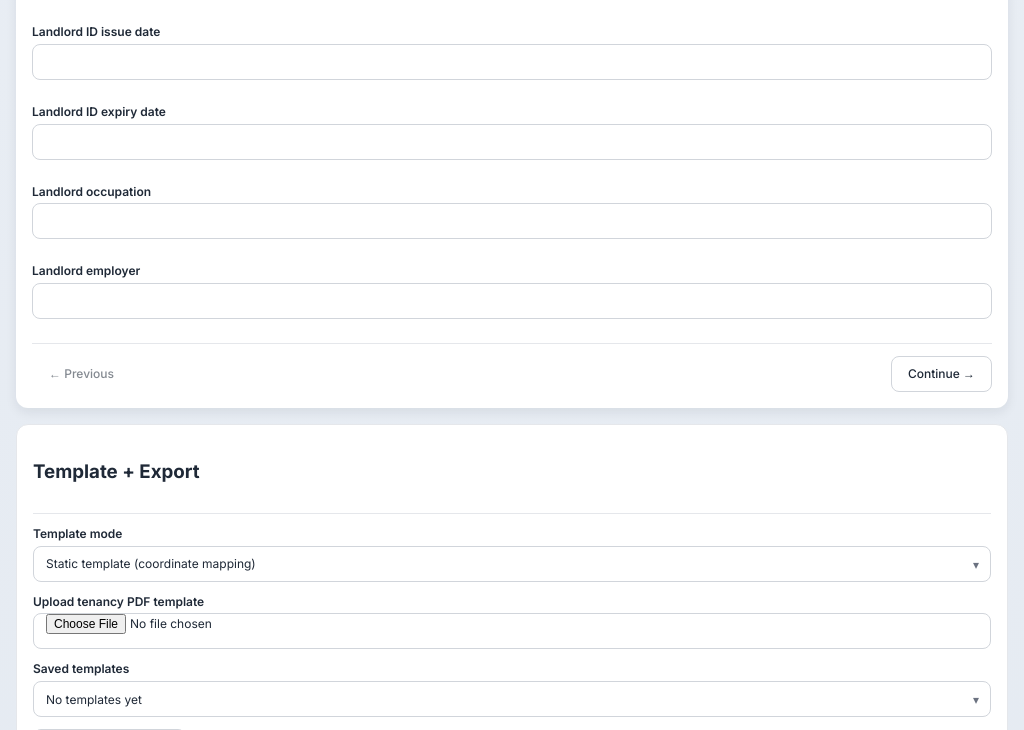
Test: TenancyContractBuilderPage integration shell › advances to next step when current step requirements are complete
The image size is (1024, 730).
(page scrolled)
Click the button "Continue →": (941, 374) [891,356,992,392]
(page scrolled)
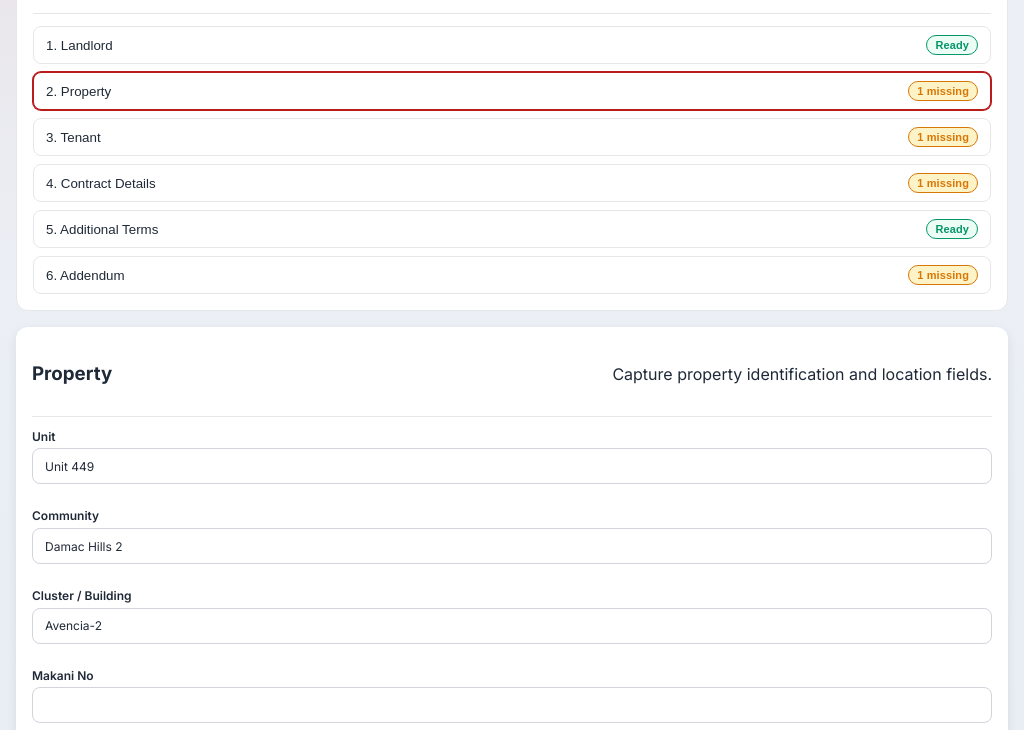
Check: the heading "Property" is shown, box [32,362,112,385]
